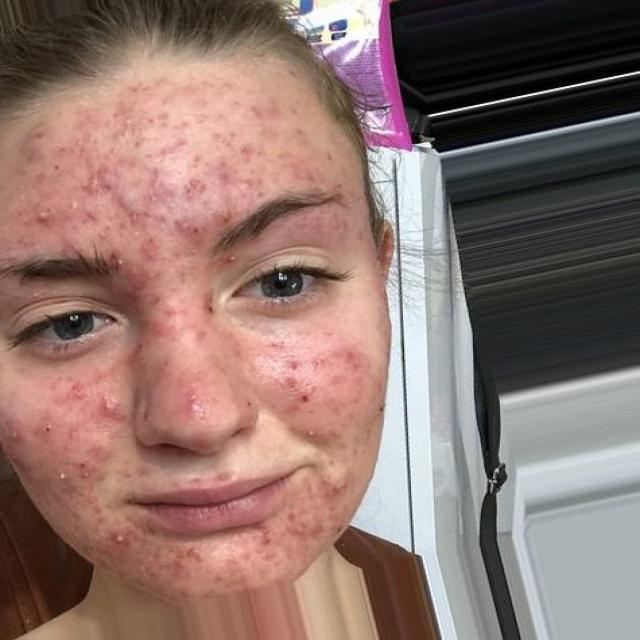acne: (0, 430, 123, 508), (60, 98, 218, 140), (77, 155, 175, 222), (38, 360, 132, 424), (123, 242, 198, 320), (260, 362, 320, 421), (196, 151, 266, 198), (312, 442, 364, 504), (16, 180, 68, 240), (210, 542, 276, 588), (314, 320, 368, 376), (177, 381, 237, 431), (266, 512, 348, 547), (164, 548, 224, 590), (269, 154, 337, 186), (254, 82, 300, 128), (162, 224, 218, 254), (90, 524, 140, 550), (360, 392, 389, 424)
